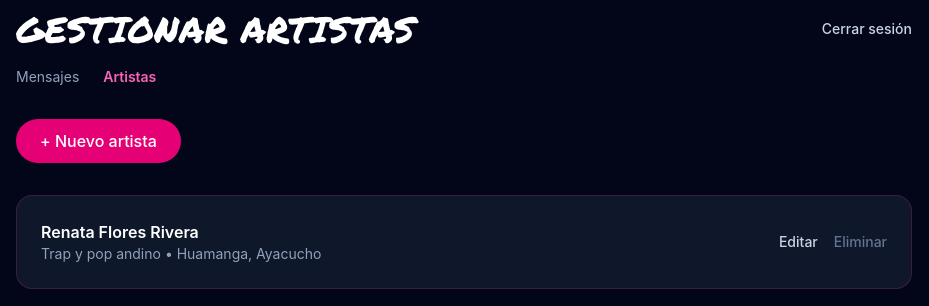
Test case: AdminArtists page › deletes an artist after confirming
Expected: the text "Renata Flores Rivera" is shown, [41,222,199,242]
Step 1. Click the button "Eliminar" → (860, 242), box [834,232,887,252]
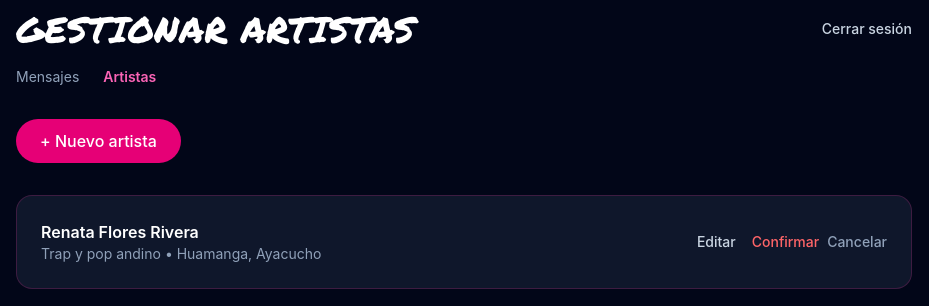
Step 2. Click the button "Confirmar" → (785, 242), box [752,232,819,252]
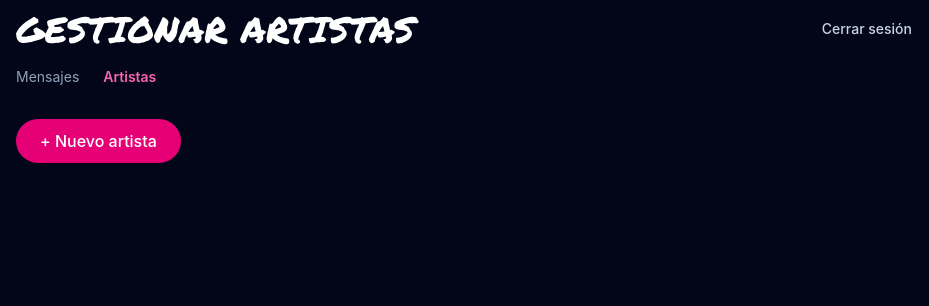
Expected: the text "Renata Flores Rivera" is gone
